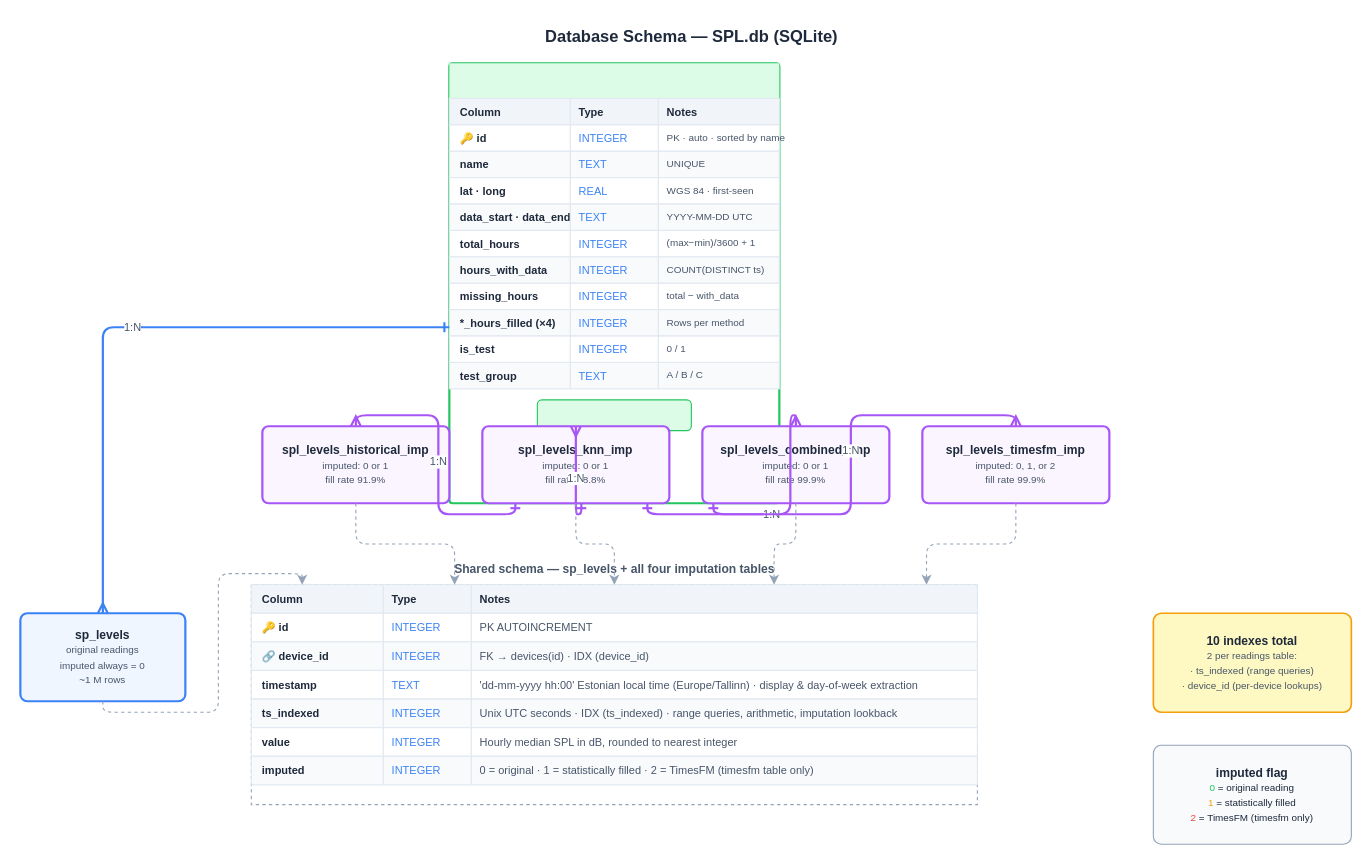
The diagram is 1371 pixels wide and 864 high, and some of its shapes have lost their labels. Each missing label, with the centre of its shape:
"471 rows" goes at pixel 613 415.
"devices" goes at pixel 614 80.
